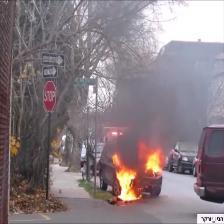fire: (115, 168, 136, 200), (146, 151, 161, 175)
smoke: (125, 75, 198, 142)
